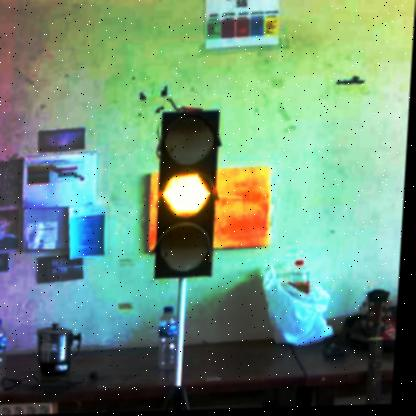Traffic Light -Yellow-: (156, 111, 224, 278)
